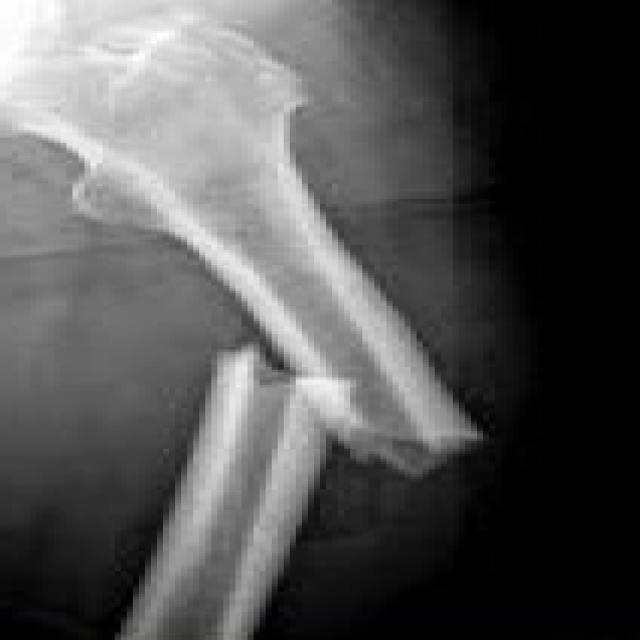Broken: (148, 155, 479, 433), (99, 345, 367, 640)
